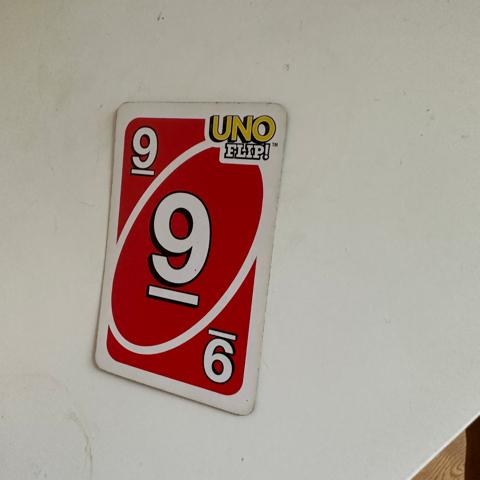lred-9: (120, 114, 165, 183)
